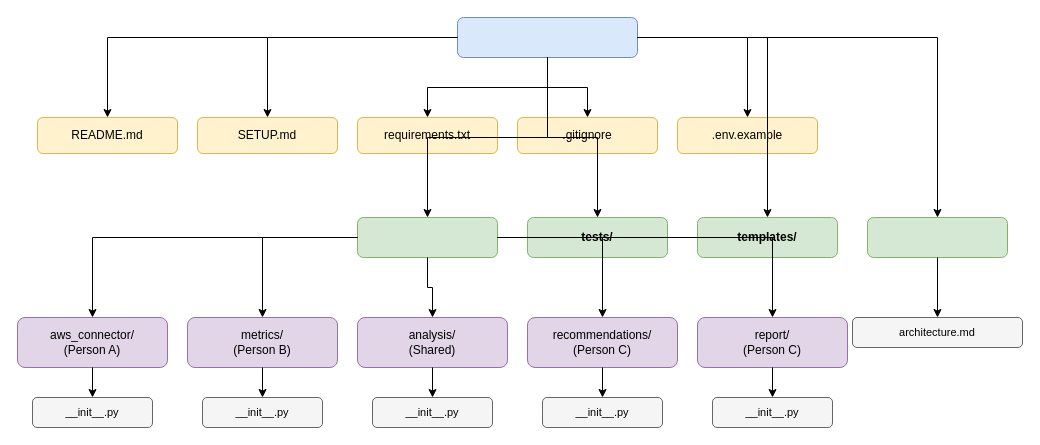
This 1040x445 diagram has some shape labels left out. Here are the shapes that lost their labels. From the top down, the box of each, then its label:
(456, 16, 638, 58): costguard/
(356, 216, 498, 258): src/
(866, 216, 1008, 258): docs/
